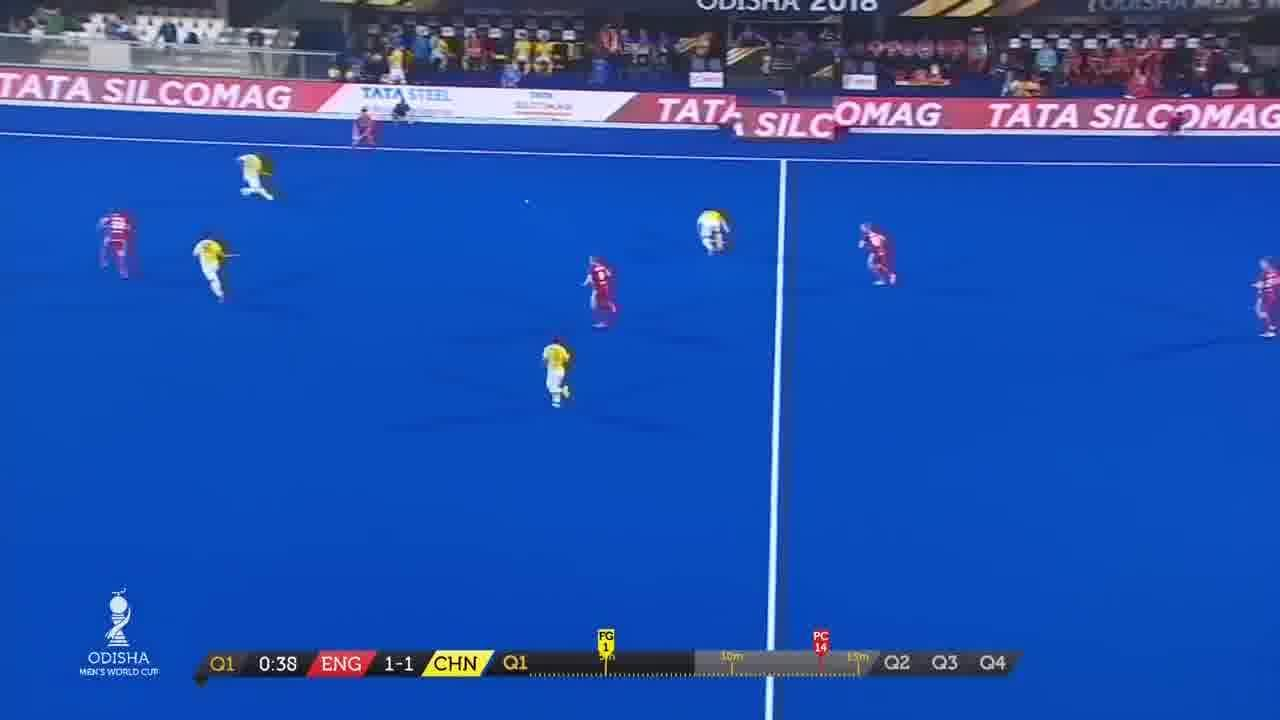ball: (524, 198, 534, 206)
